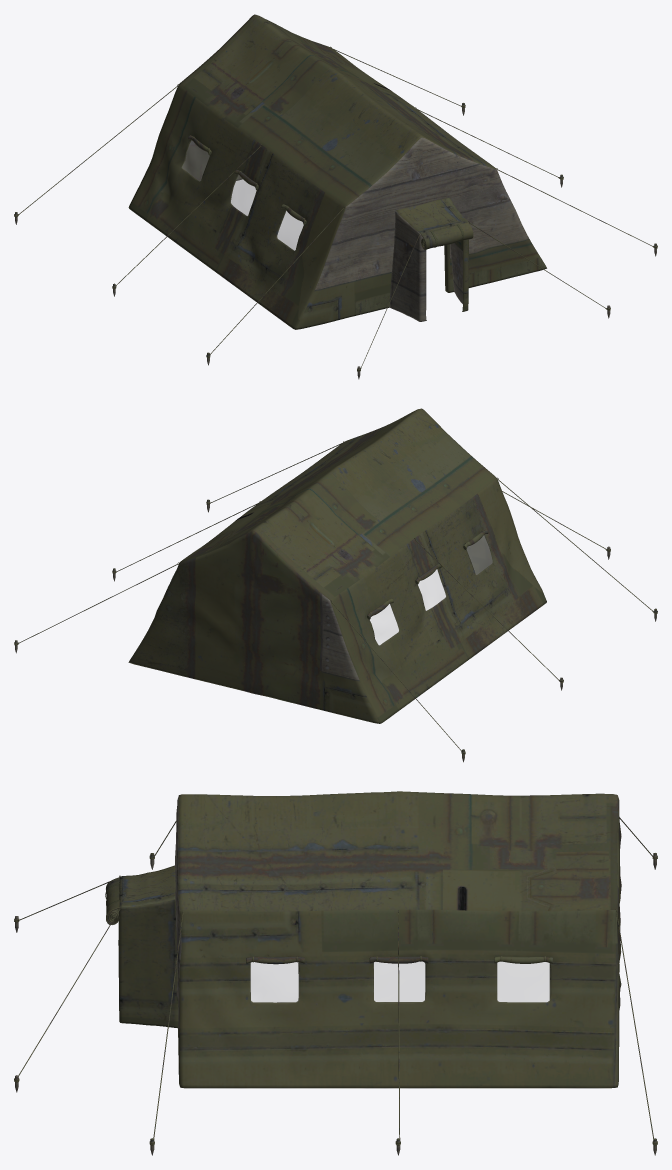
The picture shows the model from 3 angles, top to bottom: view 1: azimuth 30°, elevation 25°; view 2: azimuth 150°, elevation 25°; view 3: azimuth 270°, elevation 25°; orthographic projection. The views are drawn at different scales.
Visible parts, largest first — view 1: Military_tent; view 2: Military_tent; view 3: Military_tent.
Boxes of the visible parts, x1,y1,x2,y2 form: Military_tent: (14,14,657,379); Military_tent: (14,408,657,762); Military_tent: (14,791,657,1155).
Bounding box in the file's own units: 11.17 × 4 × 10.55.
